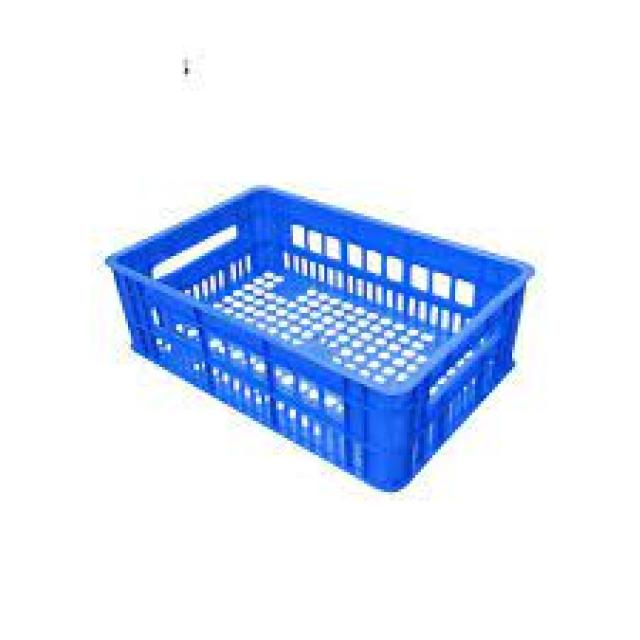basket: (67, 148, 545, 516)
